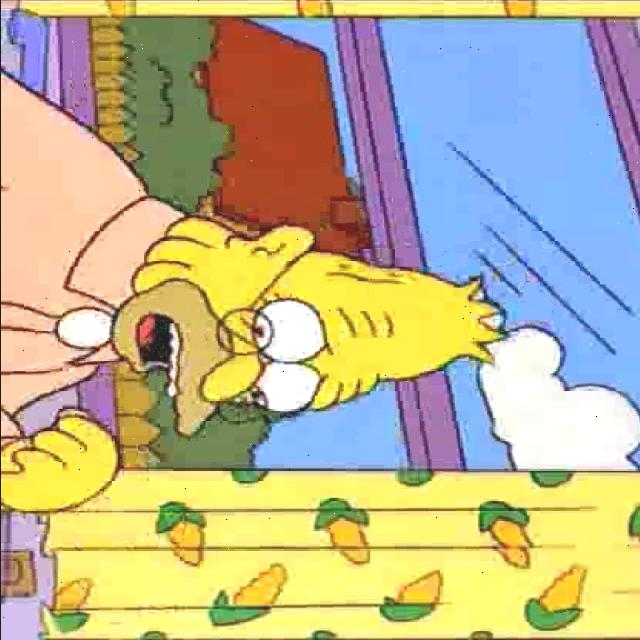Abraham Grampa Simpson: (103, 216, 506, 440)
